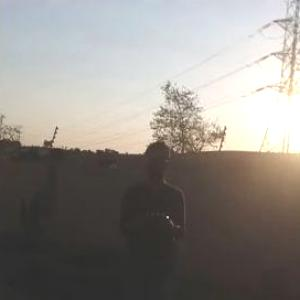follow: (114, 138, 190, 299)
